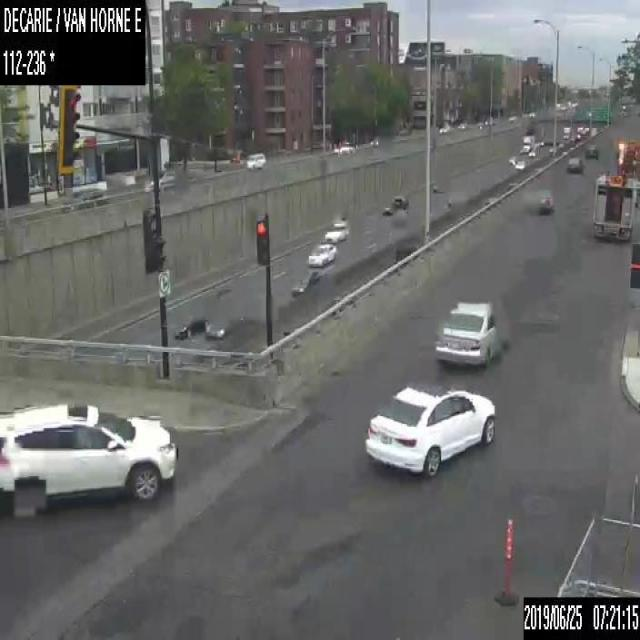construction: (494, 515, 520, 604)
vehicle: (0, 399, 178, 517), (362, 383, 494, 477), (434, 299, 498, 361), (592, 170, 638, 239), (615, 136, 639, 203), (62, 184, 105, 211), (205, 318, 243, 340), (173, 315, 207, 339), (144, 167, 177, 190), (292, 269, 320, 296), (308, 242, 335, 266), (532, 188, 554, 214), (325, 220, 348, 239), (244, 151, 266, 170), (565, 155, 582, 173), (584, 143, 598, 161), (391, 194, 407, 208), (522, 133, 534, 151), (515, 156, 529, 170), (339, 140, 353, 153), (484, 115, 494, 126), (438, 125, 450, 134), (563, 126, 570, 140), (382, 205, 392, 214), (370, 135, 379, 145), (527, 146, 535, 156), (458, 120, 466, 129), (508, 113, 516, 121)
